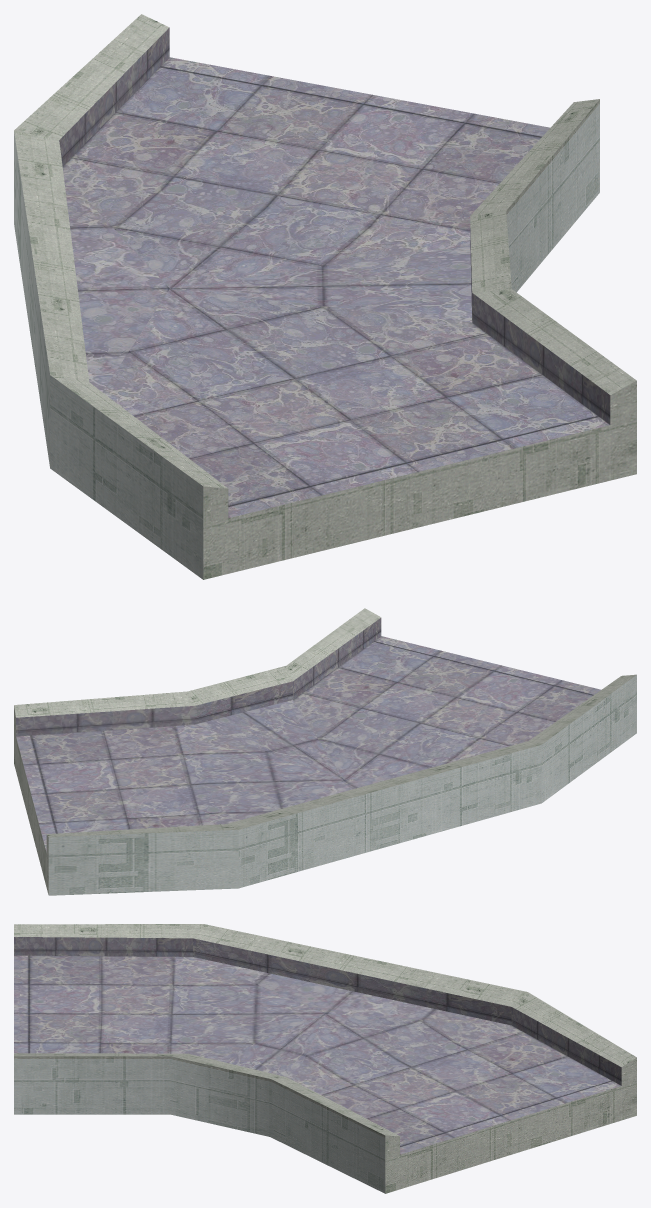
File: bes2_bldg_skyway_45.glb
3 views of the same model, one above another, from view 1: azimuth 30°, elevation 25°; view 2: azimuth 150°, elevation 25°; view 3: azimuth 270°, elevation 25° (orthographic). The views are drawn at different scales.
Parts seen in each view (by area): view 1: mesh_part1, mesh_part2; view 2: mesh_part1, mesh_part2; view 3: mesh_part1, mesh_part2.
Boxes of the visible parts, left/top/right/bottom form: mesh_part1: left=59, top=27, right=610, bottom=518; mesh_part2: left=14, top=14, right=636, bottom=579; mesh_part1: left=16, top=618, right=600, bottom=852; mesh_part2: left=14, top=608, right=636, bottom=895; mesh_part1: left=14, top=937, right=621, bottom=1154; mesh_part2: left=14, top=924, right=636, bottom=1193.
Bounding box in the file's own units: 12.83 × 1.65 × 15.96.
2 materials, 2 textured.
